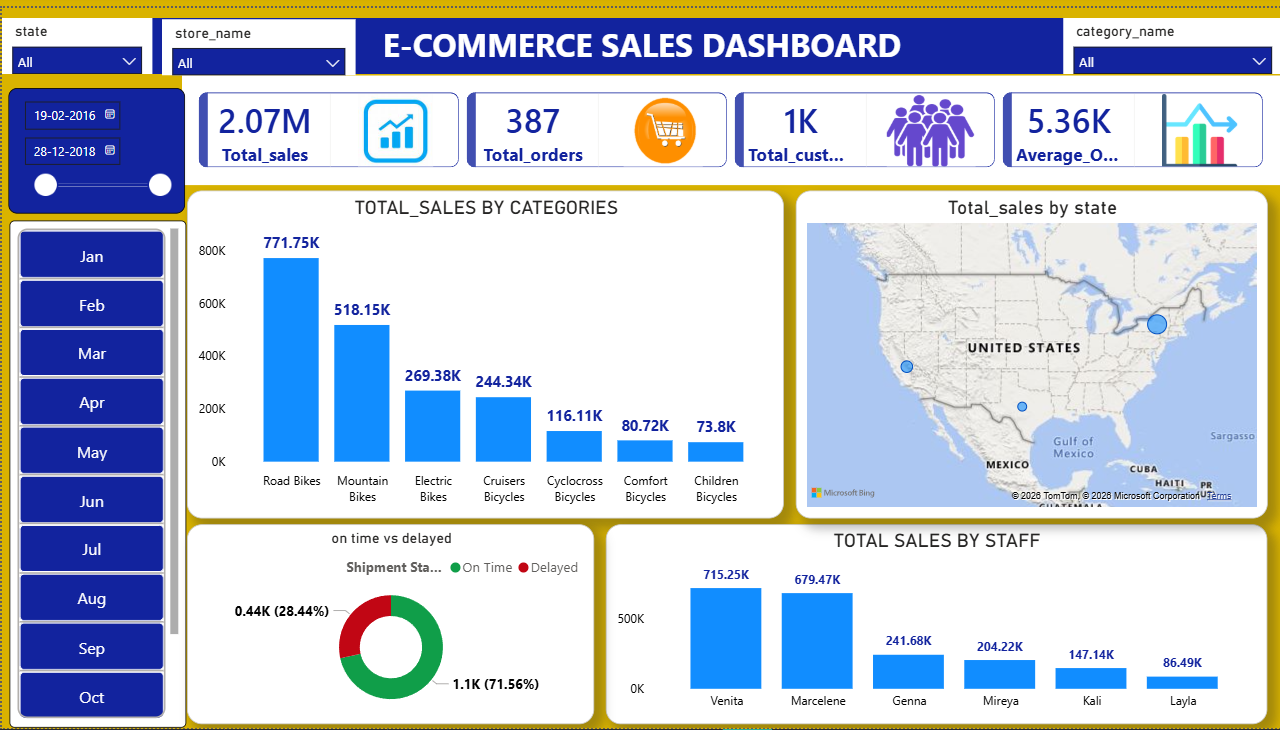

Layout of this report page (visuals, bound fields, positions):
{"tool":"powerbi","page":{"name":"DASHBOARD1","canvas":[1280,720],"ordinal":0},"visuals":[{"type":"cardVisual","fields":{"Data":["order_items.Total_sales","order_items.Total_orders","customers.customer_count","orders.Average_Order"]},"box":[179.5,67.2,1100.5,109.8],"z":0},{"type":"textbox","box":[0,10,1280,55.7],"z":1000},{"type":"clusteredColumnChart","title":"TOTAL_SALES BY CATEGORIES","fields":{"Category":["categories.category_name"],"Y":["order_items.Total_sales"]},"box":[185.2,182.5,596.9,328],"z":2000},{"type":"clusteredColumnChart","title":"TOTAL SALES BY  STAFF","fields":{"Category":["staffs.first_name"],"Y":["order_items.Total_sales"]},"box":[603.8,516,661.4,200.3],"z":3000},{"type":"slicer","fields":{"Values":["stores.state"]},"box":[0,10,150,55.7],"z":4000},{"type":"slicer","fields":{"Values":["categories.category_name"]},"box":[1061.4,10,218.6,55.7],"z":5000},{"type":"slicer","fields":{"Values":["stores.store_name"]},"box":[160.5,11,193.5,56.3],"z":6000},{"type":"slicer","fields":{"Values":["Dates.Date"]},"box":[5.7,80,177.1,125.7],"z":7000},{"type":"advancedSlicerVisual","fields":{"Values":["Dates.month"]},"box":[7.1,212.9,177.1,507.1],"z":8000},{"type":"donutChart","title":"on time vs delayed","fields":{"Category":["orders.Shipment Status"],"Y":["CountNonNull(orders.order_id)"]},"box":[185.2,516,407.5,200.3],"z":9000},{"type":"map","fields":{"Category":["stores.state"],"Size":["order_items.Total_sales"]},"box":[793.1,182.5,472,328],"z":10000}]}

Visuals, with their boxes in screenshot pixels (x1, y1, x2, y2), scaled from the page's 1280x720 canvas onto the 1280x730 screenshot:
cardVisual - order_items.Total_sales x order_items.Total_orders: 180 68 1279 179
textbox: 0 10 1279 67
"TOTAL_SALES BY CATEGORIES" clusteredColumnChart: 185 185 782 518
"TOTAL SALES BY  STAFF" clusteredColumnChart: 604 523 1265 726
slicer - stores.state: 0 10 150 67
slicer - categories.category_name: 1061 10 1279 67
slicer - stores.store_name: 160 11 354 68
slicer - Dates.Date: 6 81 183 209
advancedSlicerVisual - Dates.month: 7 216 184 729
"on time vs delayed" donutChart: 185 523 593 726
map - stores.state x order_items.Total_sales: 793 185 1265 518
